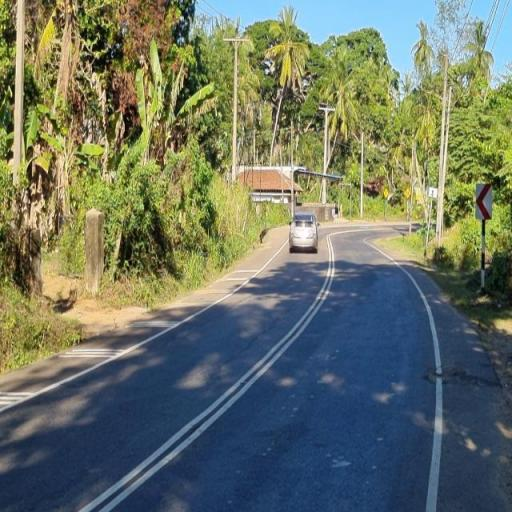double_white_line: (78, 229, 336, 512)
